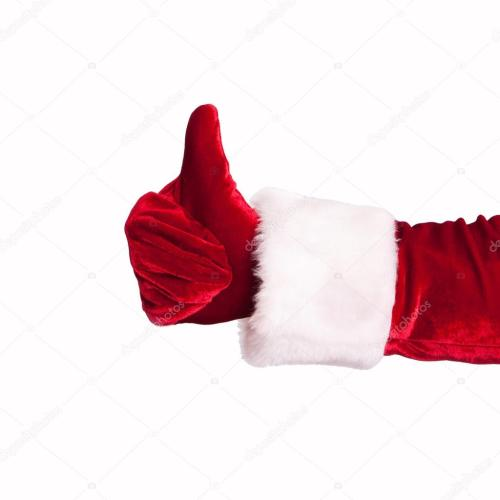Santa: (117, 96, 500, 389)
